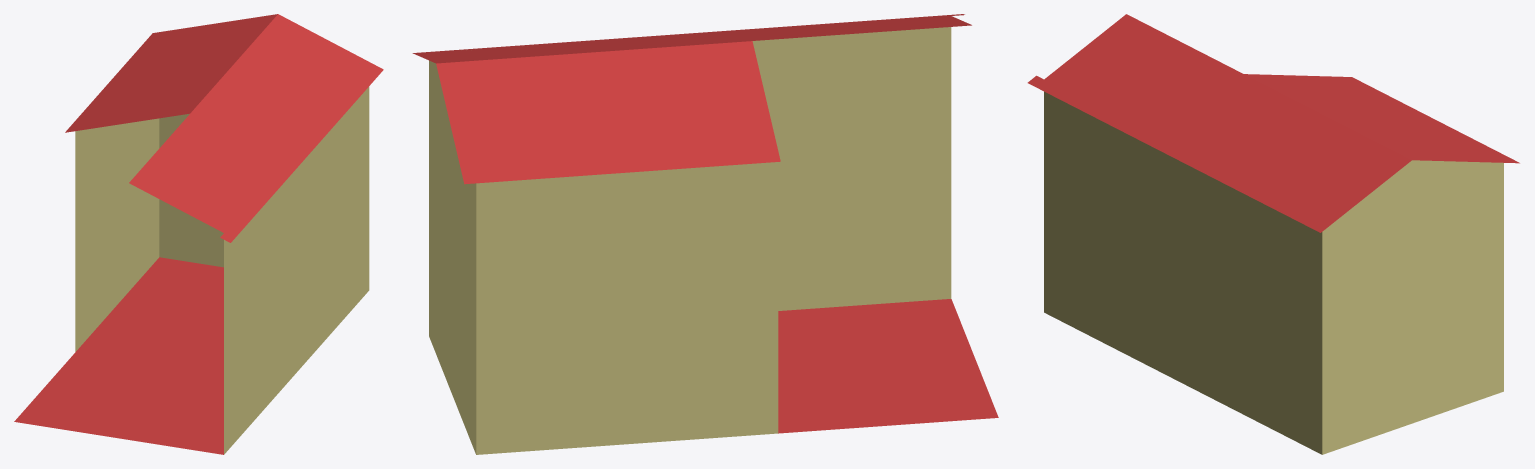
3 views of the same model, side by side, from view 1: azimuth 30°, elevation 25°; view 2: azimuth 150°, elevation 25°; view 3: azimuth 270°, elevation 25° (orthographic). The views are drawn at different scales.
Bounding box in the file's own units: 10.55 × 10.33 × 6.24.
